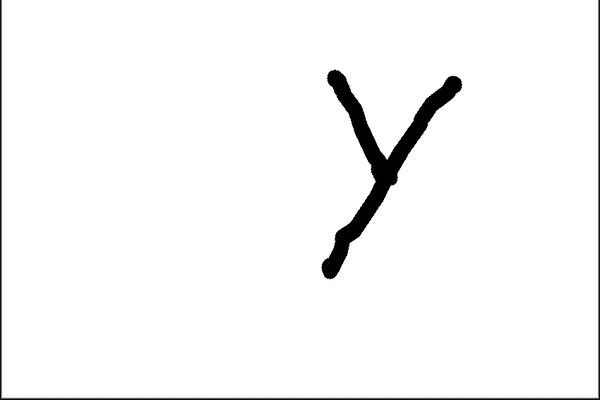Y: (303, 56, 474, 283)
